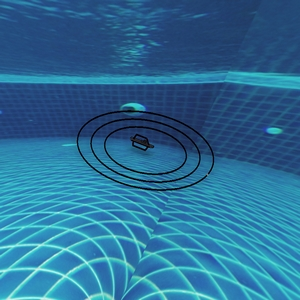submarine: (131, 136, 153, 151)
